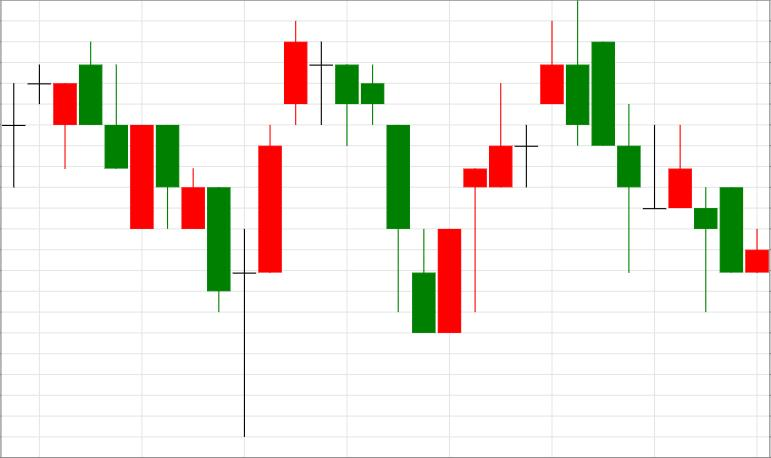bullish_engulfing_rise: (310, 43, 462, 334)
